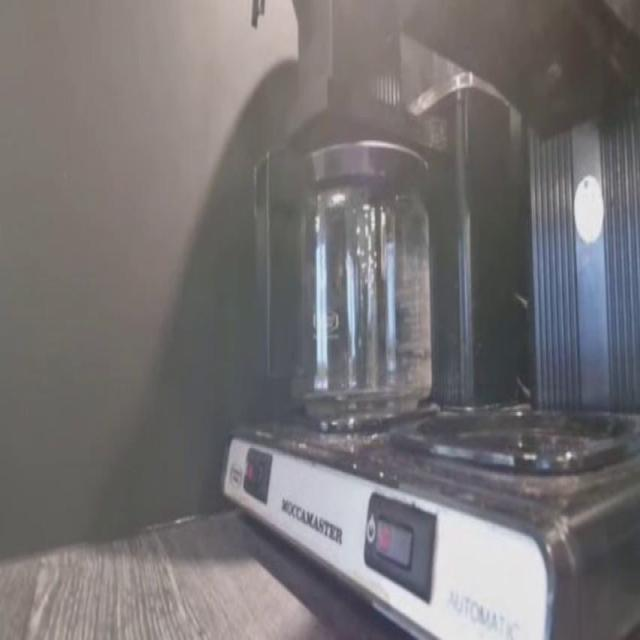nocoffee: (296, 212, 433, 425)
